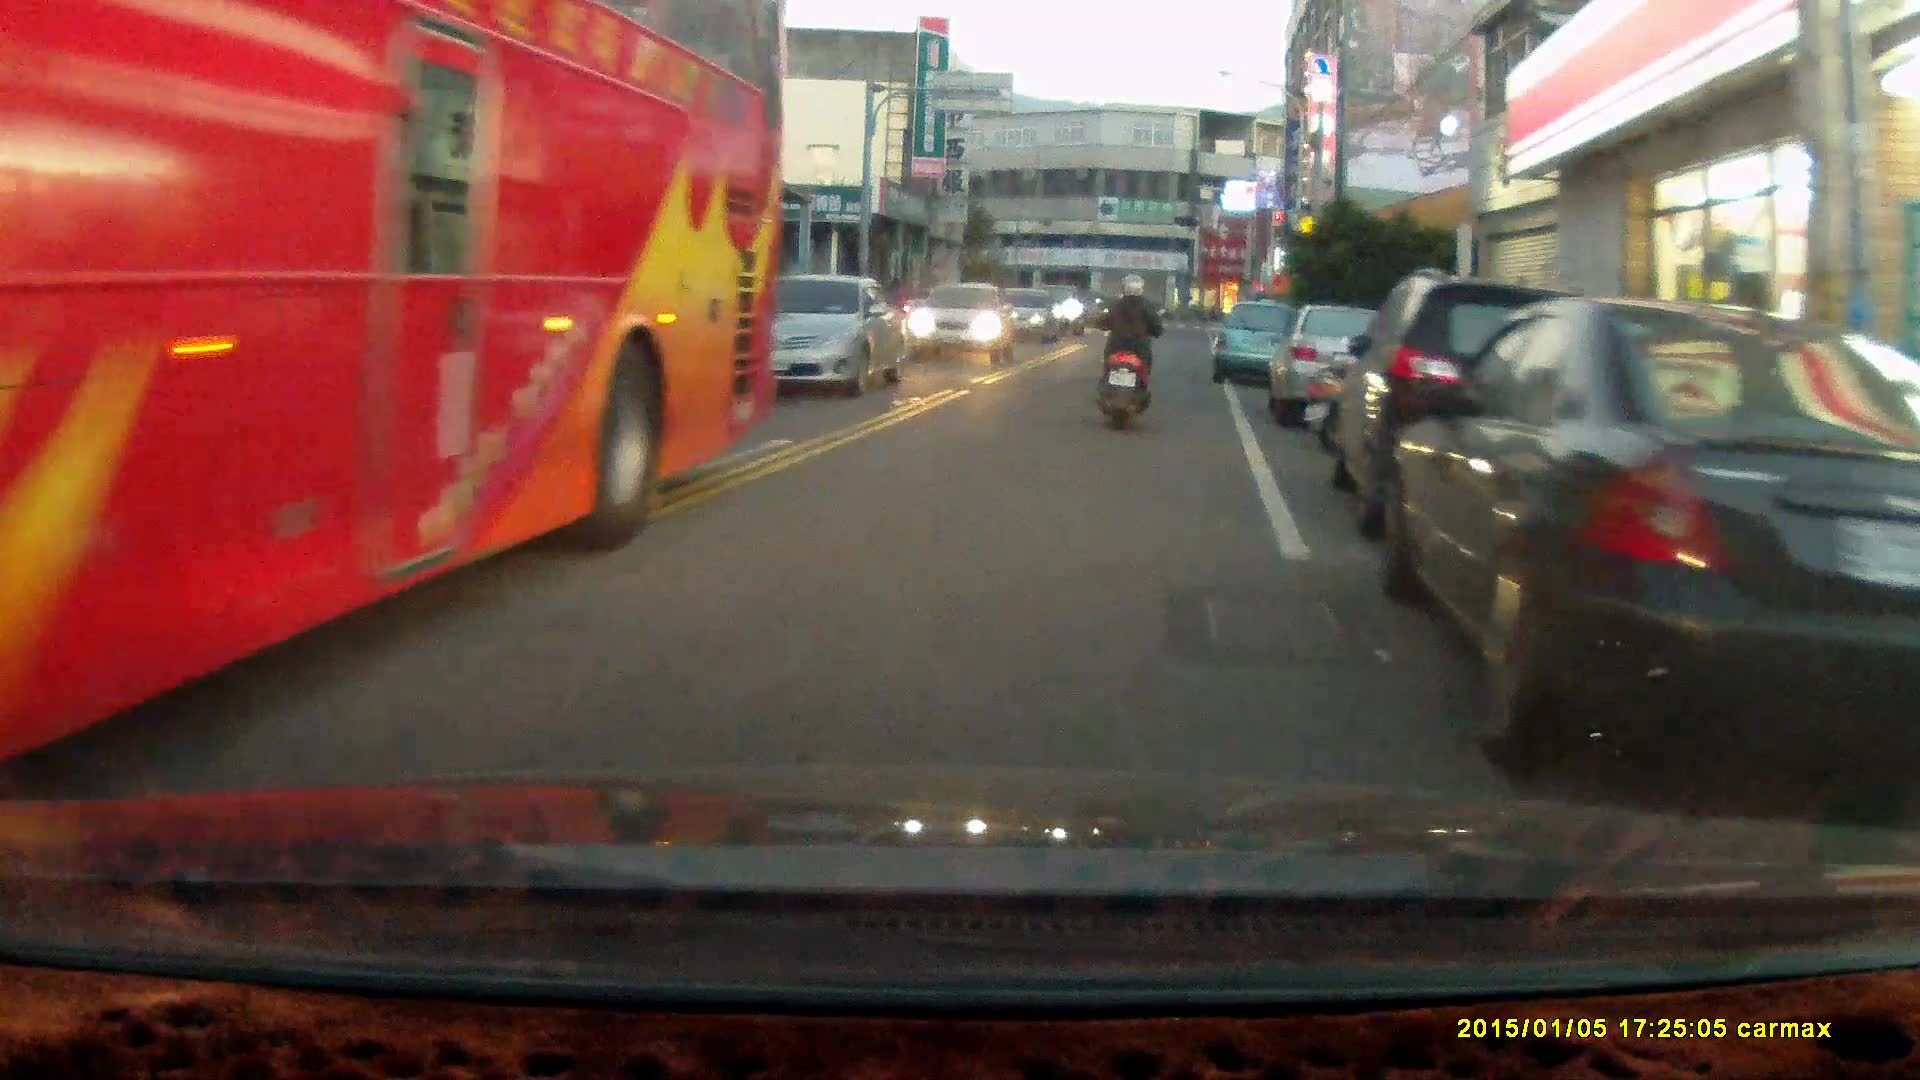rider: (1089, 272, 1163, 430)
vehicle: (1, 9, 789, 766), (1380, 295, 1920, 778), (1321, 266, 1699, 547), (1270, 304, 1450, 434), (713, 279, 900, 399), (906, 281, 1019, 367), (1210, 300, 1305, 386)
